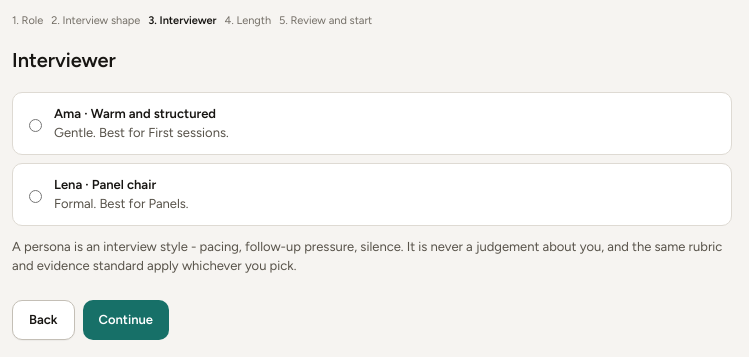
Test: the steps › restores an addressed step with its selection intact
Expected: the heading "Interviewer" is shown, [12,48,116,72]
Expected: the radio button labelled "Lena · Panel chair Formal. Best for Panels." is shown, [29,180,42,213]
Note: Going back shows the earlier choice still made.
Click the button "Back": (43, 320) [12,300,75,340]
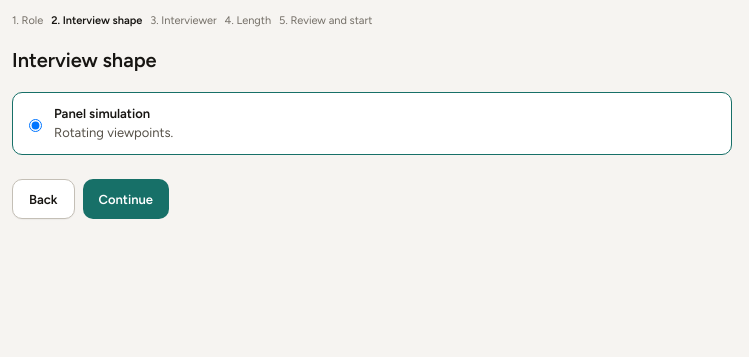
Expected: the radio button labelled "Panel simulation Rotating viewpoints." is checked, [29,109,42,142]
